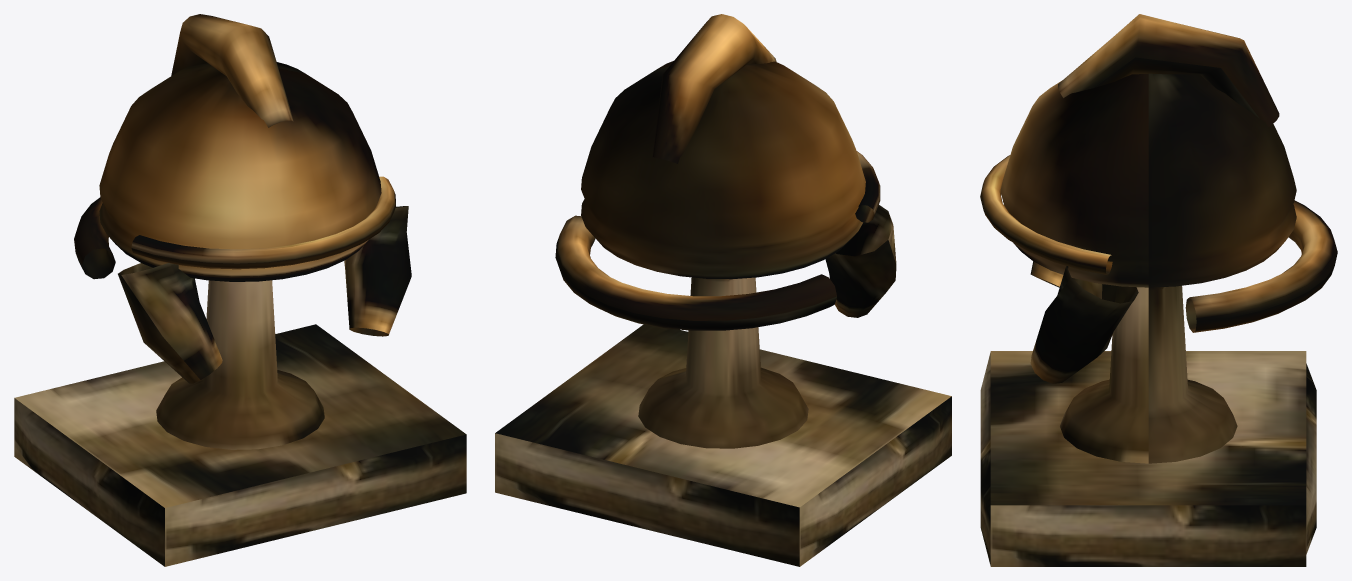
The model's file is helmet-of-hope.glb.
3 renders of one model, left to right at view 1: azimuth 30°, elevation 25°; view 2: azimuth 150°, elevation 25°; view 3: azimuth 270°, elevation 25°, orthographic. The views are drawn at different scales.
Parts seen in each view (by area): view 1: HeroRelicMonument; view 2: HeroRelicMonument; view 3: HeroRelicMonument.
Part boxes in pixels (<box>): HeroRelicMonument: <box>14,14,466,566</box>; HeroRelicMonument: <box>495,14,951,566</box>; HeroRelicMonument: <box>980,14,1337,566</box>.
Size of the model in its own units: 1.18 by 1.59 by 1.09.
Materials: 1 (1 with a texture image).
